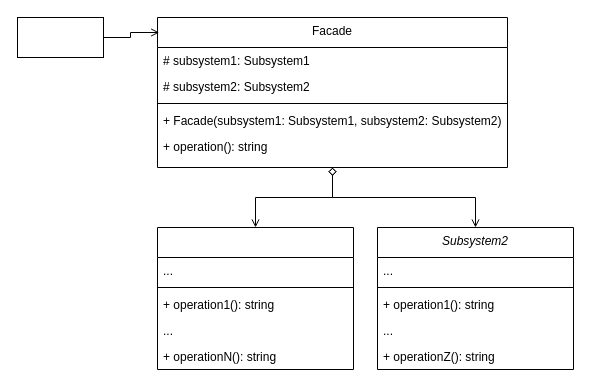
Some shapes in this 591 by 390 pixel diagram are drawn without their labels. The box of each missing label's shape, as (x1, y1, x2, y2) in pixels:
Client: (16, 16, 104, 58)
Subsystem1: (156, 226, 354, 370)
